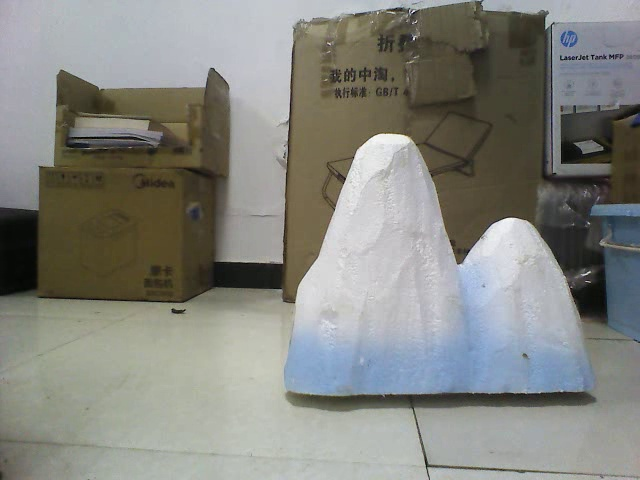iceberg: (279, 130, 602, 403)
